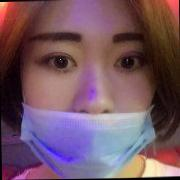WRONG: (22, 1, 162, 180)
